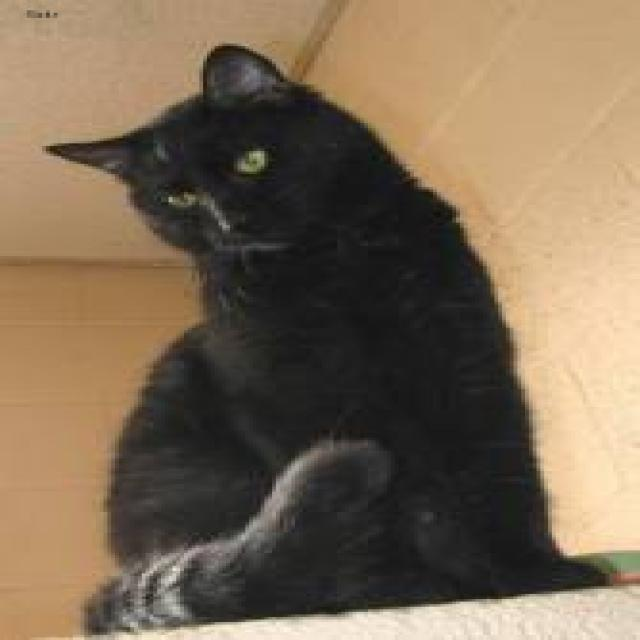Bombay: (39, 41, 357, 251)
